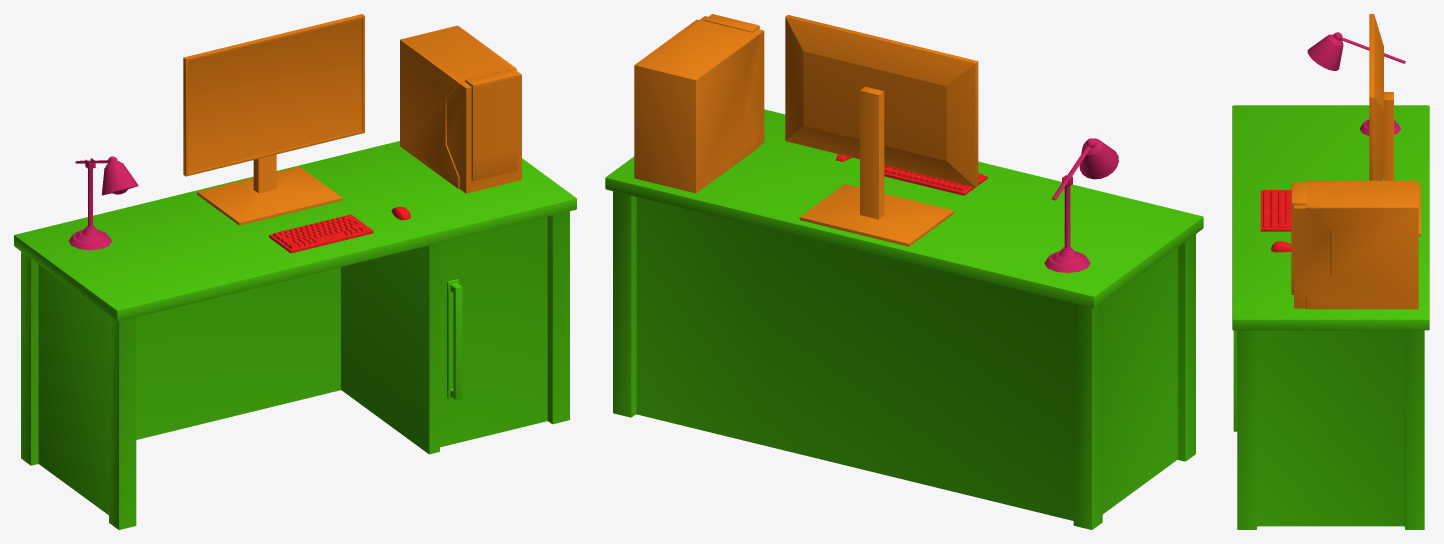
The model's file is SM_Desk.fbx.
The picture shows the model from 3 angles, left to right: view 1: azimuth 30°, elevation 25°; view 2: azimuth 150°, elevation 25°; view 3: azimuth 270°, elevation 25°; orthographic projection. The views are drawn at different scales.
Visible parts, largest first — view 1: Desk_Desk_lp, Desk_Monitor_lp, Desk_PC_lp, Desk_Lamp_lp, Desk_Keyboard_lp; view 2: Desk_Desk_lp, Desk_Monitor_lp, Desk_PC_lp, Desk_Lamp_lp, Desk_Keyboard_lp; view 3: Desk_Desk_lp, Desk_PC_lp, Desk_Monitor_lp, Desk_Lamp_lp, Desk_Keyboard_lp.
Boxes of the visible parts, left/top/right/bottom form: Desk_Desk_lp: left=14, top=141, right=576, bottom=529; Desk_Monitor_lp: left=183, top=14, right=364, bottom=225; Desk_PC_lp: left=400, top=25, right=521, bottom=193; Desk_Lamp_lp: left=68, top=156, right=138, bottom=250; Desk_Keyboard_lp: left=269, top=214, right=373, bottom=253; Desk_Desk_lp: left=605, top=109, right=1203, bottom=529; Desk_Monitor_lp: left=785, top=15, right=978, bottom=246; Desk_PC_lp: left=634, top=14, right=764, bottom=193; Desk_Lamp_lp: left=1044, top=138, right=1118, bottom=272; Desk_Keyboard_lp: left=884, top=165, right=987, bottom=195; Desk_Desk_lp: left=1232, top=105, right=1429, bottom=529; Desk_PC_lp: left=1291, top=180, right=1418, bottom=309; Desk_Monitor_lp: left=1369, top=14, right=1420, bottom=236; Desk_Lamp_lp: left=1307, top=32, right=1405, bottom=135; Desk_Keyboard_lp: left=1260, top=190, right=1291, bottom=231.
Bounding box in the file's own units: 20.55 × 16.5 × 8.
